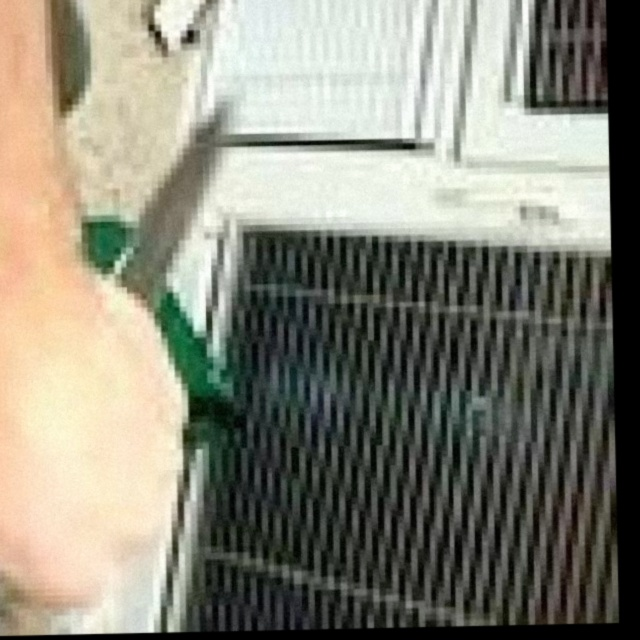Sharp-Object: (0, 101, 245, 623)
